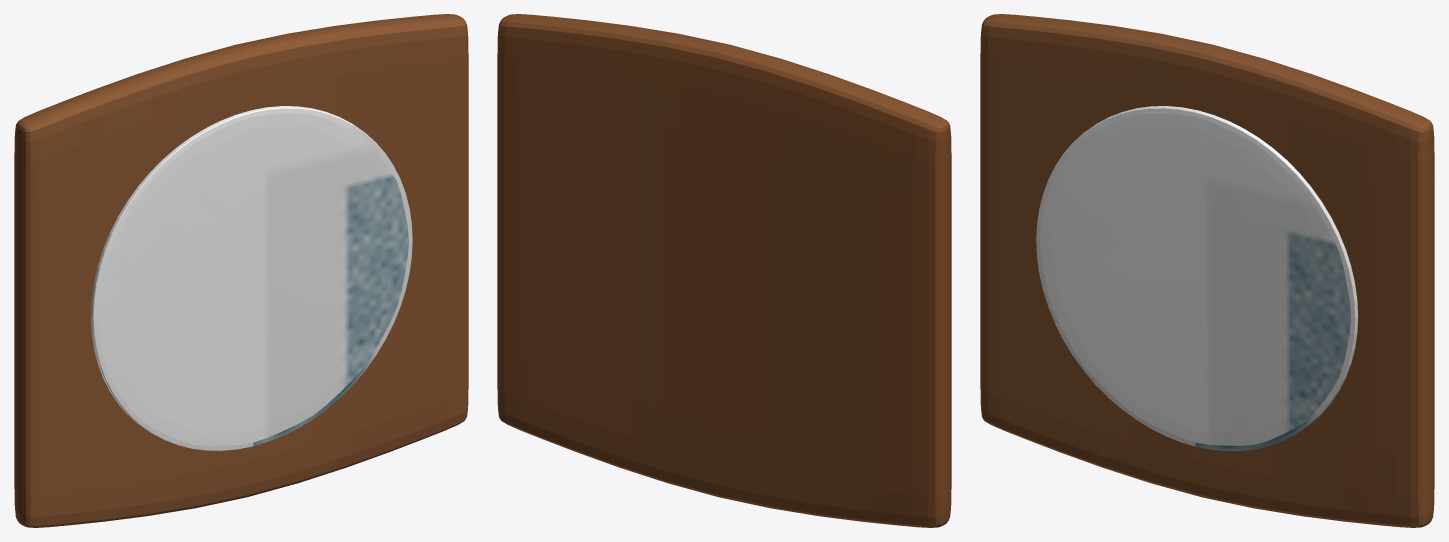
Rendered from Wall watch con UV.fbx.
3 views of the same model, side by side, from view 1: azimuth 30°, elevation 25°; view 2: azimuth 150°, elevation 25°; view 3: azimuth 330°, elevation 25° (orthographic).
Visible parts, largest first — view 1: Wall watch; view 2: Wall watch; view 3: Wall watch.
Boxes of the visible parts, <box> form: Wall watch: <box>14,14,468,527</box>; Wall watch: <box>497,14,951,527</box>; Wall watch: <box>980,14,1434,527</box>.
Size of the model in its own units: 187 by 179 by 15.28.
